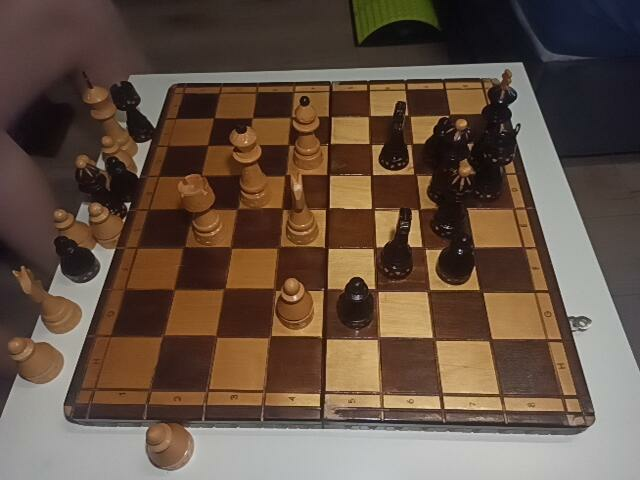B-Bishop: (435, 166, 470, 236)
B-King: (480, 70, 516, 170)
B-Knight: (382, 207, 415, 280), (379, 102, 410, 170), (424, 118, 456, 167)
B-Pawn: (336, 277, 375, 330), (437, 235, 475, 286)
B-Queen: (430, 120, 471, 207)
B-Rook: (475, 131, 519, 203)
W-Bishop: (292, 96, 324, 170)
W-Knight: (285, 174, 319, 247)
W-Pawn: (273, 278, 314, 330)
W-Queen: (230, 122, 272, 207)
W-Rook: (178, 173, 225, 247)
